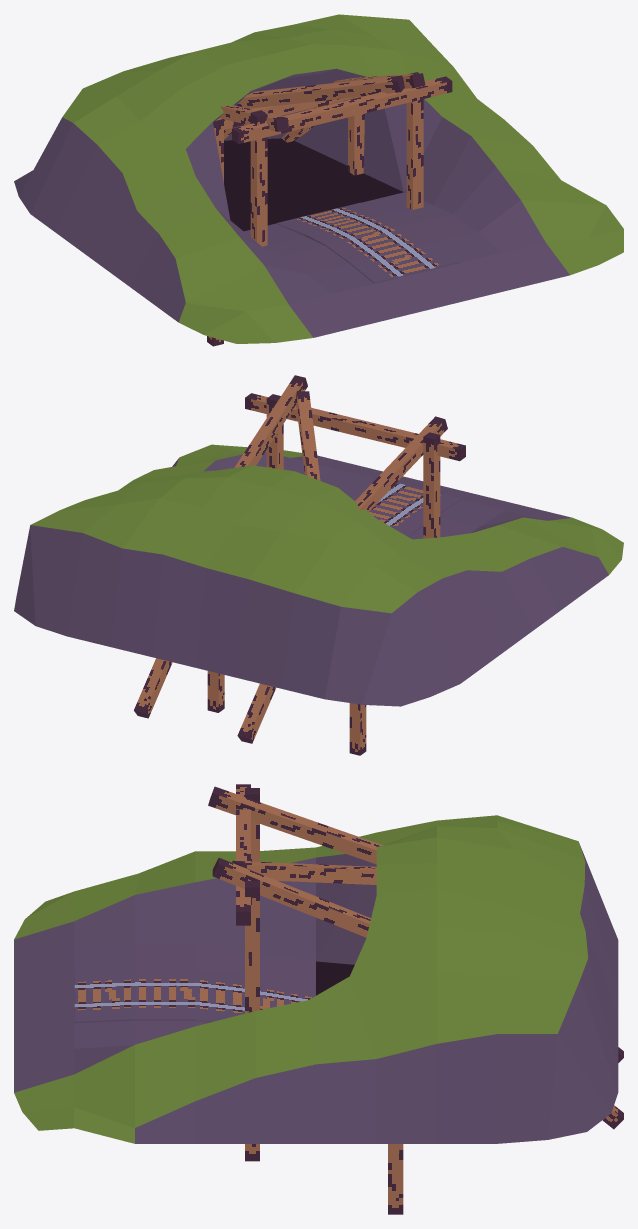
The model's file is mineshaft.gltf.
3 renders of one model, top to bottom at view 1: azimuth 30°, elevation 25°; view 2: azimuth 150°, elevation 25°; view 3: azimuth 270°, elevation 25°, orthographic. The views are drawn at different scales.
Parts seen in each view (by area): view 1: Plane, supports; view 2: Plane, supports; view 3: Plane, supports.
Boxes of the visible parts, left/top/right/bottom form: Plane: left=14, top=14, right=623, bottom=343; supports: left=207, top=72, right=452, bottom=346; Plane: left=14, top=444, right=623, bottom=706; supports: left=134, top=375, right=465, bottom=755; Plane: left=14, top=815, right=618, bottom=1143; supports: left=208, top=784, right=623, bottom=1214.
Bounding box in the file's own units: 10 × 6.47 × 10.1.
Materials: 1 (1 with a texture image).
